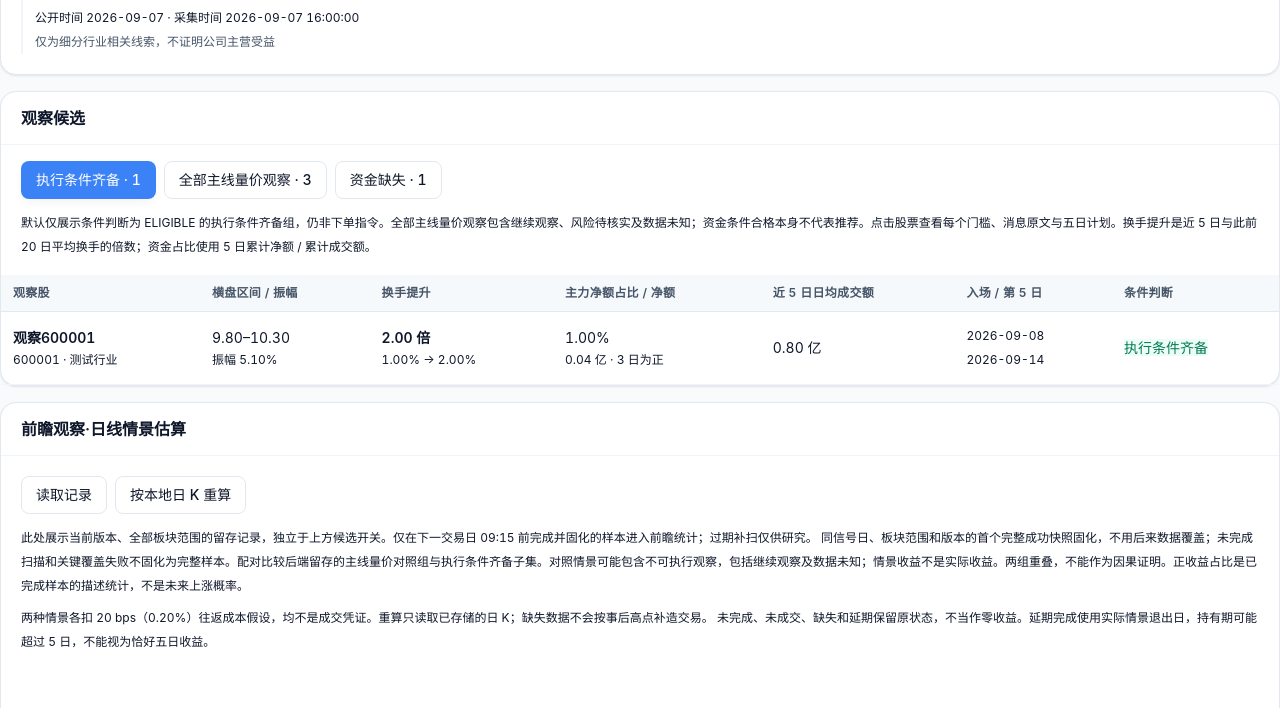
Test case: FiveDayPage observation workflow › checks execution on request without changing the snapshot or creating a trade review
(page scrolled)
Click the row that starts with "观察600001" at (640, 348), box [1,312,1279,384]
(page scrolled)
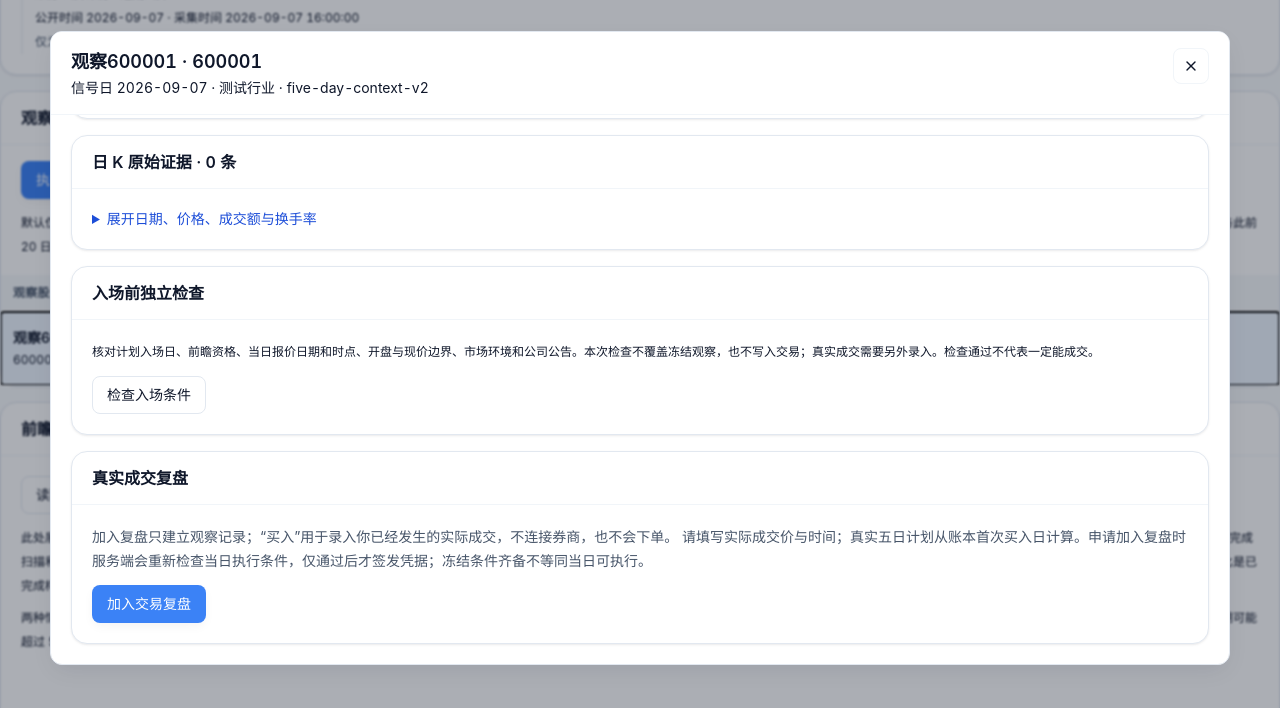
Expected: the button "检查入场条件" is shown
Click the button "检查入场条件" at (149, 395), box [92,376,206,414]
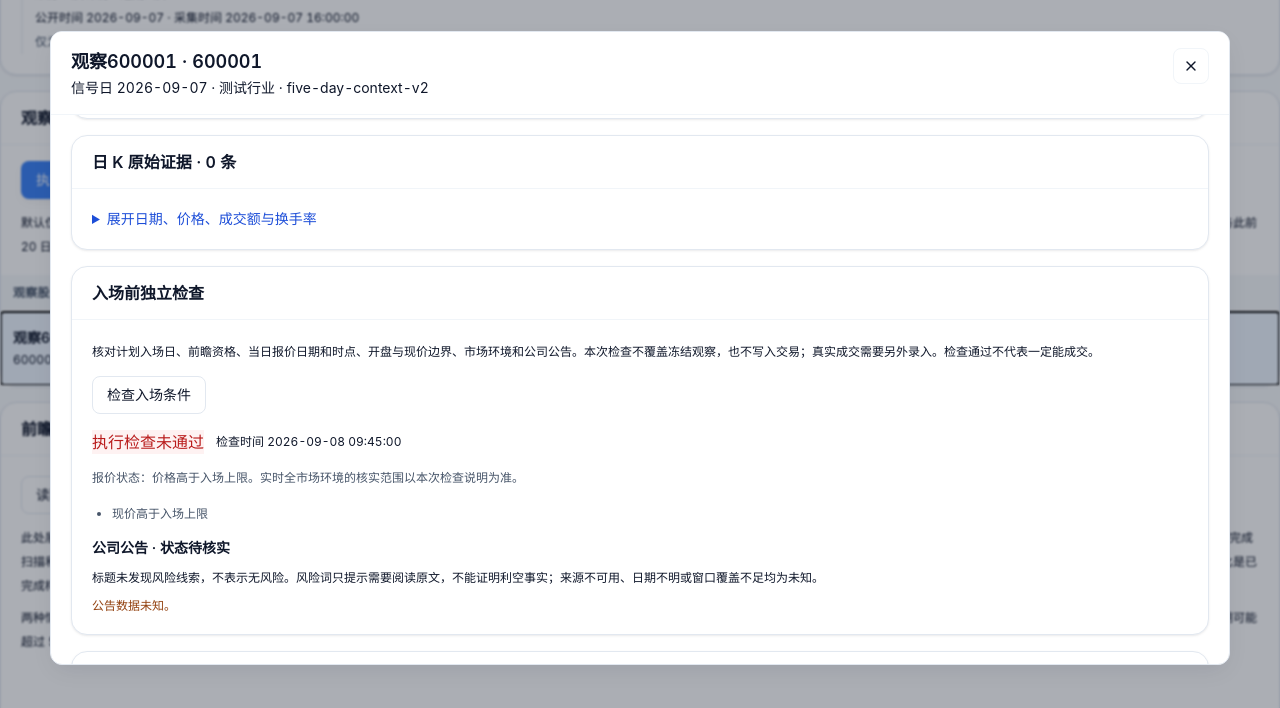
Expected: the text "执行检查未通过" is shown, [92,430,204,454]
Expected: the text "现价高于入场上限" is shown, [112,506,208,521]
Expected: the text "2026-09-08 09:45:00" is shown, [267,434,402,449]
